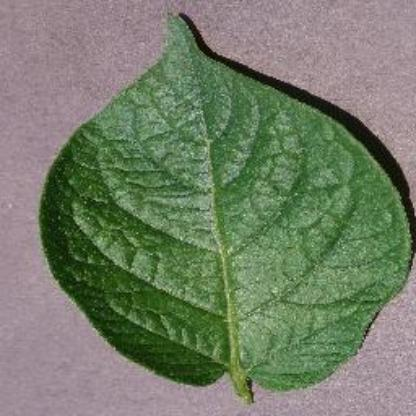Healthy-plant: (49, 24, 415, 398)
